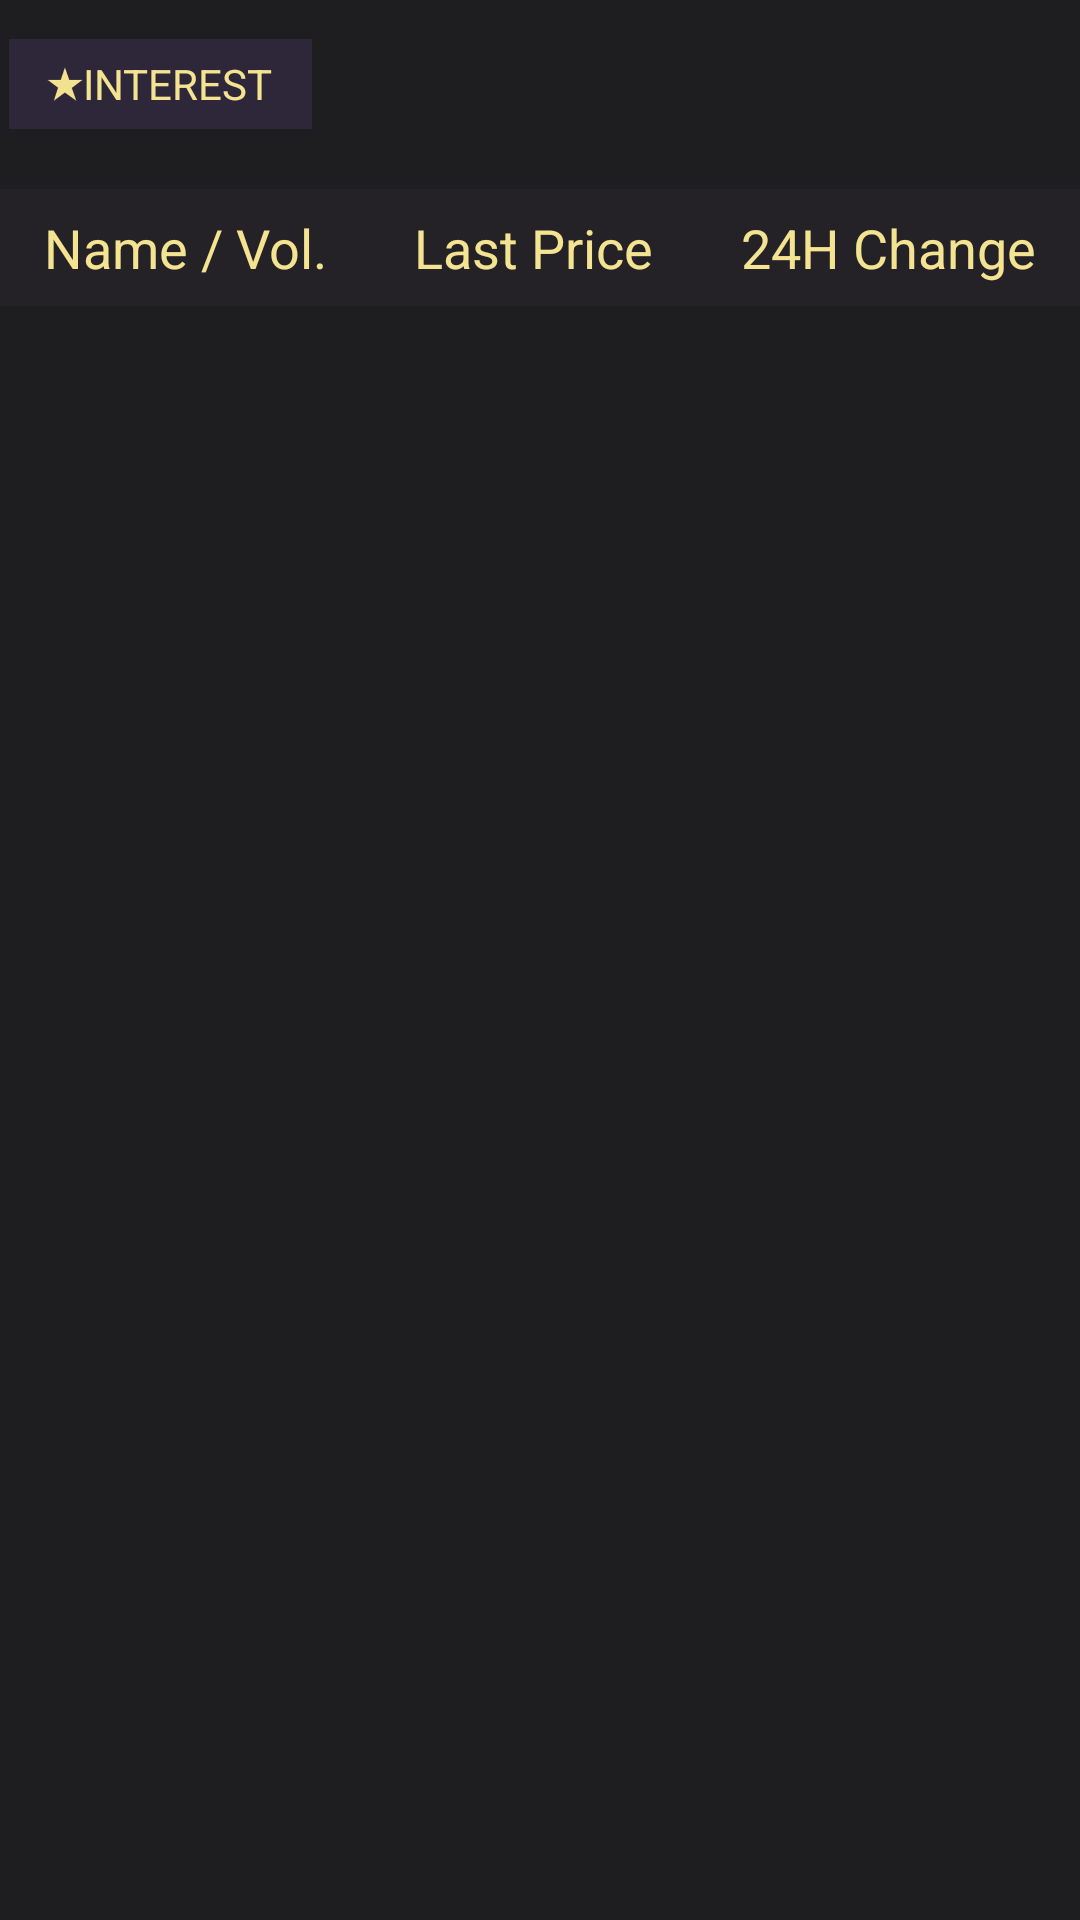

Icon click points for this 1080w x 1920h phone screenshot, format point (x, y):
star full: point (65, 84)
